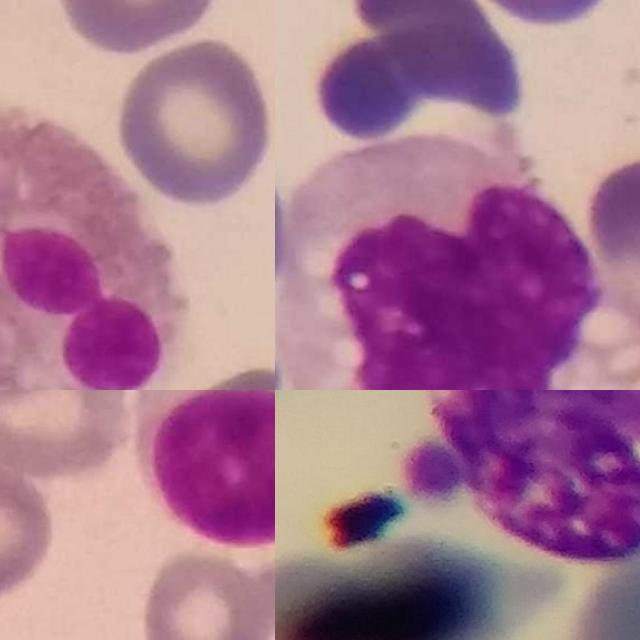Basophil: (424, 390, 640, 564)
Eosinophil: (0, 92, 181, 390)
Lymphocyte: (131, 390, 275, 554)
Monocyte: (285, 135, 608, 390)
